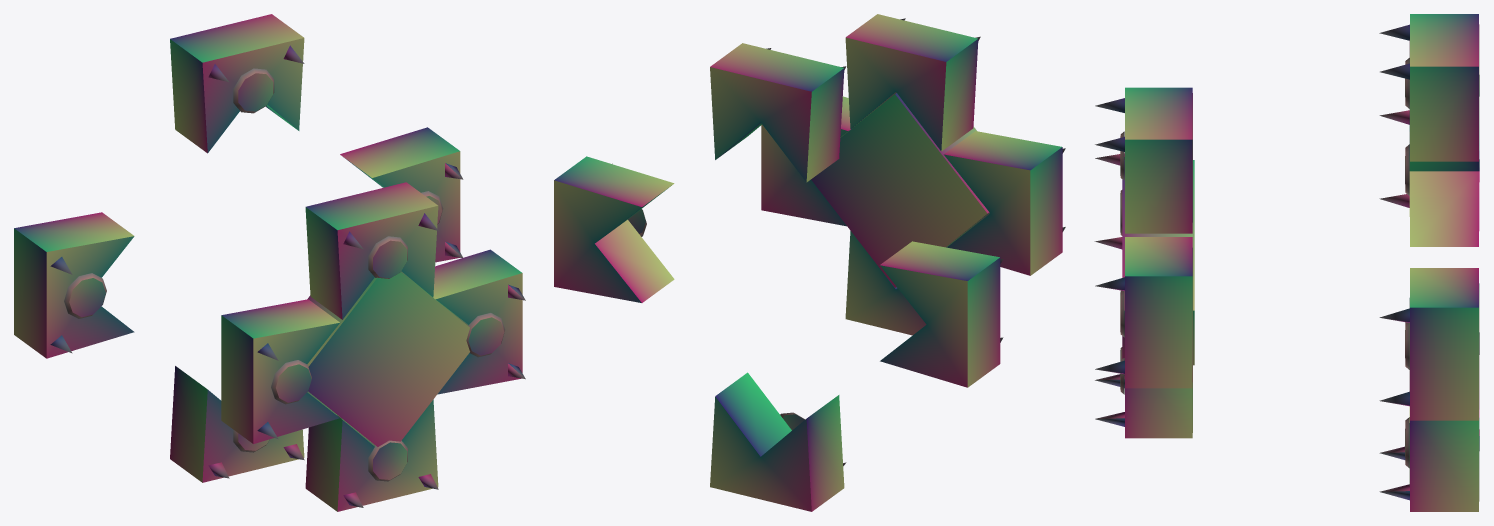
Rendered from Eff_LuciaWeapon_Head_UV01.fbx.
3 renders of one model, left to right at view 1: azimuth 30°, elevation 25°; view 2: azimuth 150°, elevation 25°; view 3: azimuth 270°, elevation 25°, orthographic. The views are drawn at different scales.
Parts seen in each view (by area): view 1: Eff_LuciaWeapon_01_B, Eff_LuciaWeapon_01_A; view 2: Eff_LuciaWeapon_01_A, Eff_LuciaWeapon_01_B; view 3: Eff_LuciaWeapon_01_A, Eff_LuciaWeapon_01_B.
Part boxes in pixels (<box>): Eff_LuciaWeapon_01_B: <box>221,182,525,511</box>; Eff_LuciaWeapon_01_A: <box>14,14,463,482</box>; Eff_LuciaWeapon_01_A: <box>554,43,1003,511</box>; Eff_LuciaWeapon_01_B: <box>761,14,1065,335</box>; Eff_LuciaWeapon_01_A: <box>1379,14,1479,511</box>; Eff_LuciaWeapon_01_B: <box>1094,87,1194,438</box>.
Bounding box in the file's own units: 4.59 × 4.45 × 3.49.
